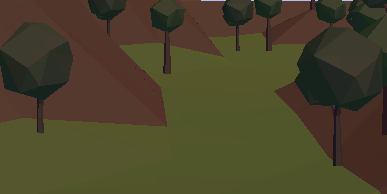tree: (298, 26, 387, 167), (1, 20, 76, 135), (149, 1, 189, 74), (85, 1, 134, 38), (222, 1, 254, 55), (254, 1, 283, 56), (315, 1, 345, 27)
